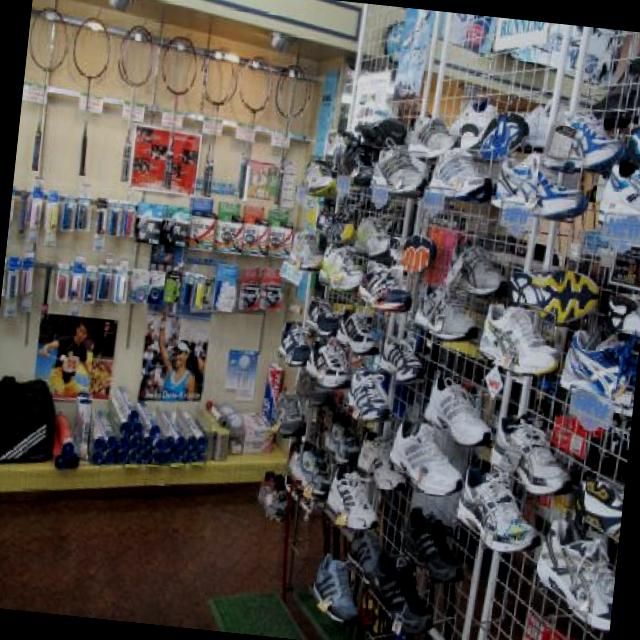Person: (28, 317, 100, 402), (152, 310, 204, 404)
